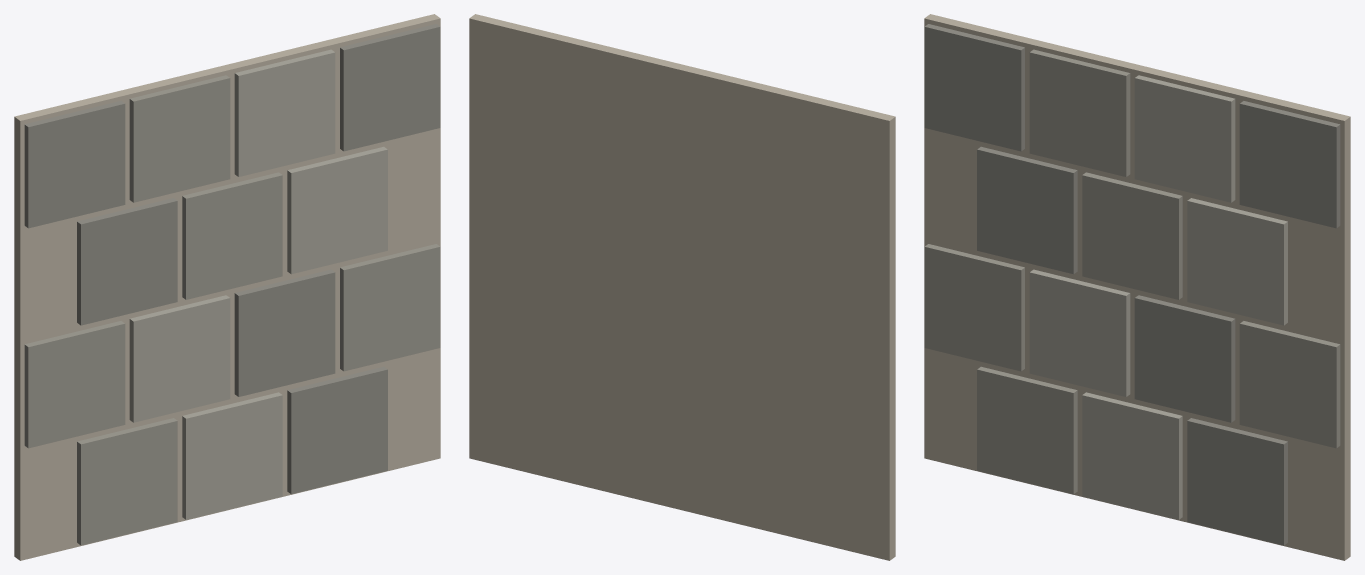
File: floor_stone_flagstone_tile_2x2.glb
The picture shows the model from 3 angles, left to right: view 1: azimuth 30°, elevation 25°; view 2: azimuth 150°, elevation 25°; view 3: azimuth 330°, elevation 25°; orthographic projection.
Visible parts, largest first — view 1: floor_stone_flagstone_tile_2x2_000, floor_stone_flagstone_tile_2x2_006, floor_stone_flagstone_tile_2x2_004, floor_stone_flagstone_tile_2x2_011, floor_stone_flagstone_tile_2x2_012, floor_stone_flagstone_tile_2x2_013, floor_stone_flagstone_tile_2x2_005, floor_stone_flagstone_tile_2x2_002, floor_stone_flagstone_tile_2x2_008, floor_stone_flagstone_tile_2x2_010, floor_stone_flagstone_tile_2x2_001, floor_stone_flagstone_tile_2x2_003 (+3 smaller); view 2: floor_stone_flagstone_tile_2x2_000; view 3: floor_stone_flagstone_tile_2x2_000, floor_stone_flagstone_tile_2x2_005, floor_stone_flagstone_tile_2x2_007, floor_stone_flagstone_tile_2x2_012, floor_stone_flagstone_tile_2x2_013, floor_stone_flagstone_tile_2x2_014, floor_stone_flagstone_tile_2x2_006, floor_stone_flagstone_tile_2x2_002, floor_stone_flagstone_tile_2x2_008, floor_stone_flagstone_tile_2x2_010, floor_stone_flagstone_tile_2x2_001, floor_stone_flagstone_tile_2x2_003 (+3 smaller).
Part boxes in pixels (x1,y1,x2,y2): floor_stone_flagstone_tile_2x2_000: (14,14,440,560); floor_stone_flagstone_tile_2x2_006: (234,269,335,396); floor_stone_flagstone_tile_2x2_004: (24,321,125,448); floor_stone_flagstone_tile_2x2_011: (24,101,125,228); floor_stone_flagstone_tile_2x2_012: (129,75,230,202); floor_stone_flagstone_tile_2x2_013: (234,49,335,176); floor_stone_flagstone_tile_2x2_005: (129,295,230,422); floor_stone_flagstone_tile_2x2_002: (182,392,282,519); floor_stone_flagstone_tile_2x2_008: (77,198,177,325); floor_stone_flagstone_tile_2x2_010: (287,146,387,274); floor_stone_flagstone_tile_2x2_001: (77,418,177,545); floor_stone_flagstone_tile_2x2_003: (287,366,387,494); floor_stone_flagstone_tile_2x2_000: (469,14,895,560); floor_stone_flagstone_tile_2x2_000: (924,14,1350,560); floor_stone_flagstone_tile_2x2_005: (1029,269,1130,396); floor_stone_flagstone_tile_2x2_007: (1239,321,1340,448); floor_stone_flagstone_tile_2x2_012: (1029,49,1130,176); floor_stone_flagstone_tile_2x2_013: (1134,75,1235,202); floor_stone_flagstone_tile_2x2_014: (1239,101,1340,228); floor_stone_flagstone_tile_2x2_006: (1134,295,1235,422); floor_stone_flagstone_tile_2x2_002: (1082,392,1182,519); floor_stone_flagstone_tile_2x2_008: (977,146,1077,274); floor_stone_flagstone_tile_2x2_010: (1187,198,1287,325); floor_stone_flagstone_tile_2x2_001: (977,366,1077,494); floor_stone_flagstone_tile_2x2_003: (1187,418,1287,545).
Bounding box in the file's own units: 2 × 2 × 0.0825.
